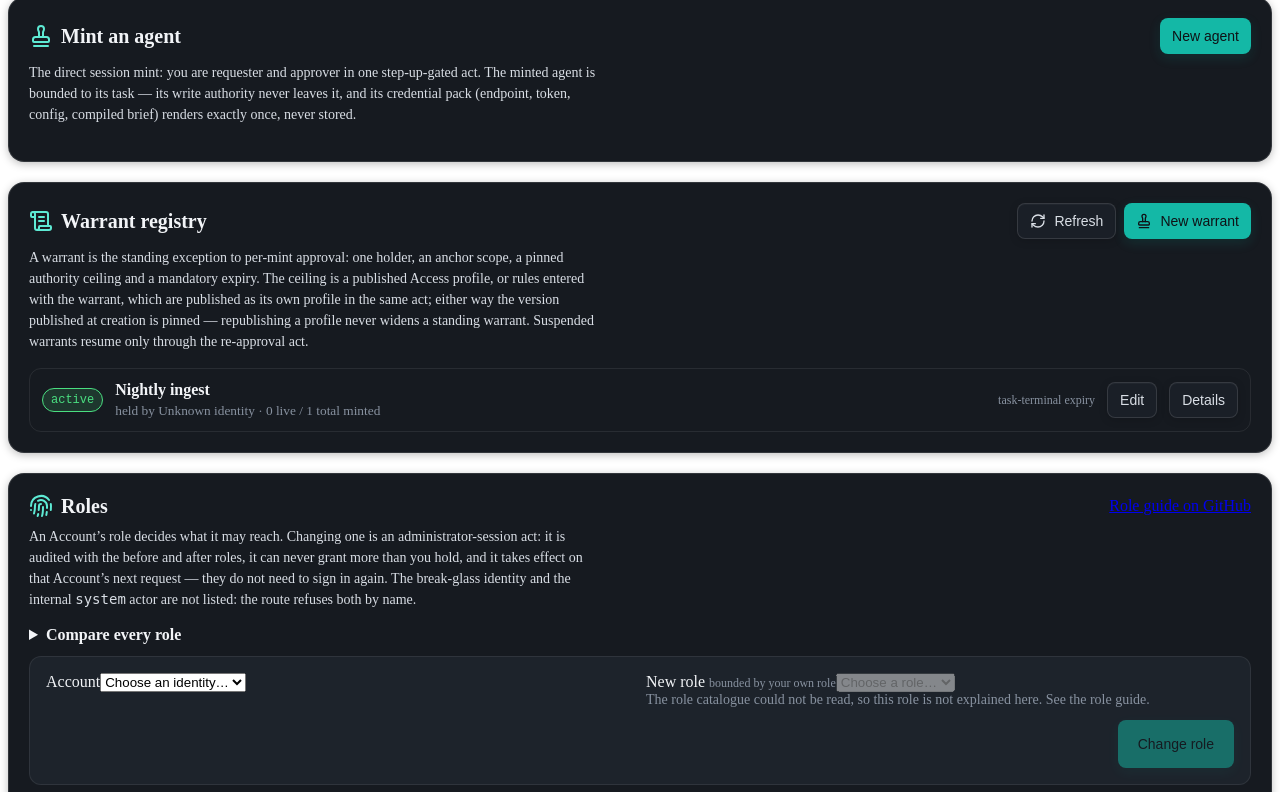
Test: the details panel never claims a revoke unassigns nothing while it does not know › a warrant carrying only CONCEALED Tasks reports the whole count
(page scrolled)
Click the button "Details". click: click(1204, 400)
box: [1169, 382, 1238, 418]
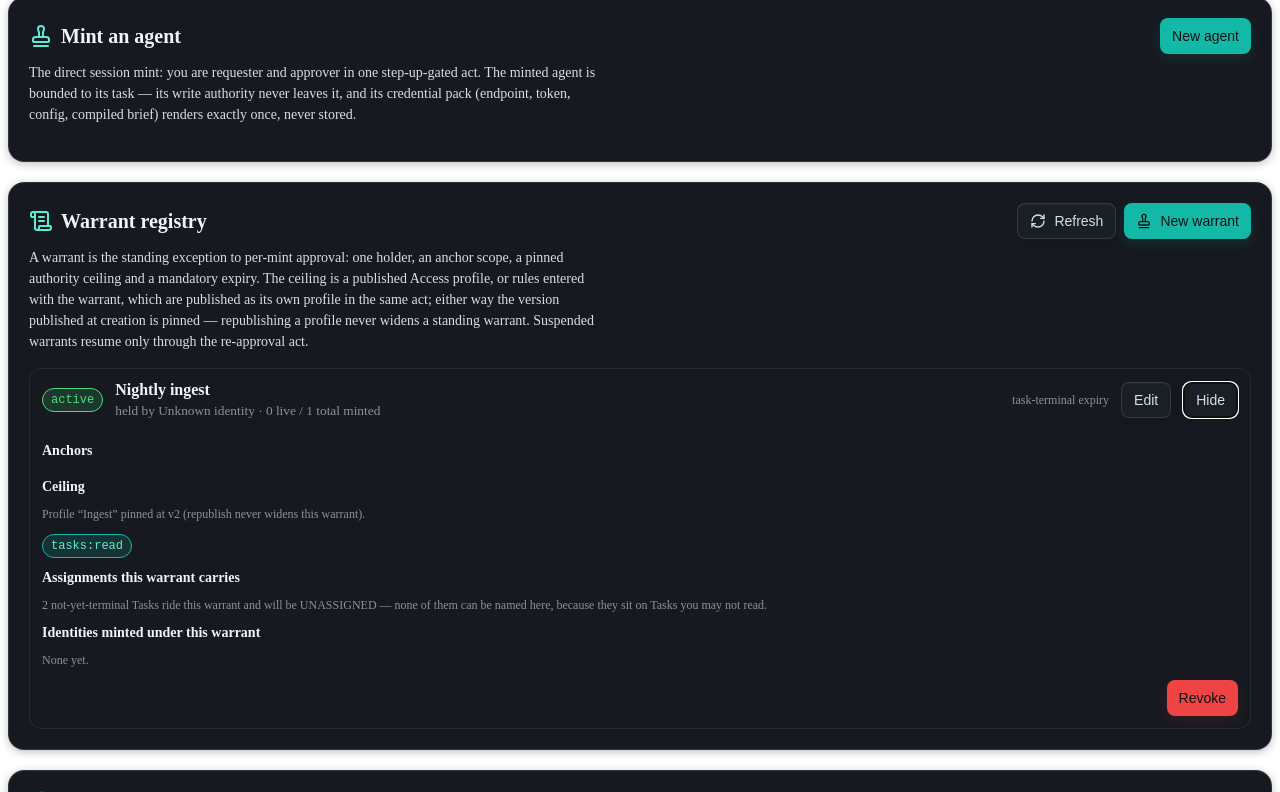
Now the text "2 not-yet-terminal Tasks ride this warrant" is shown, box [42, 598, 767, 612]
